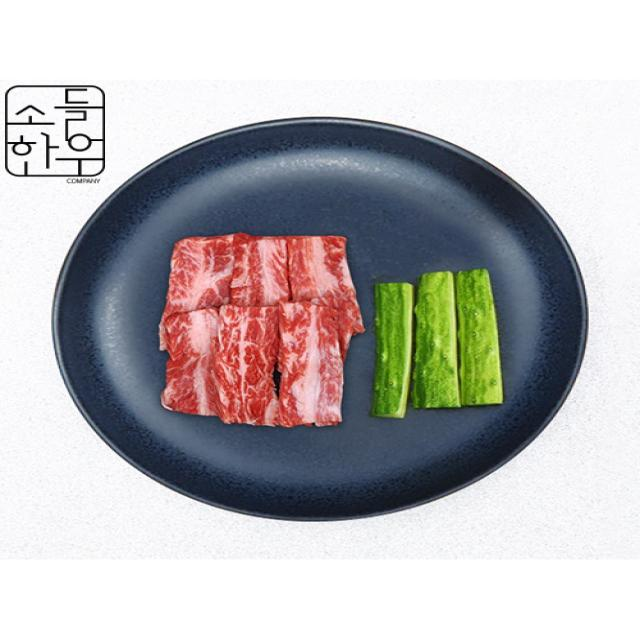beef: (180, 241, 338, 405)
